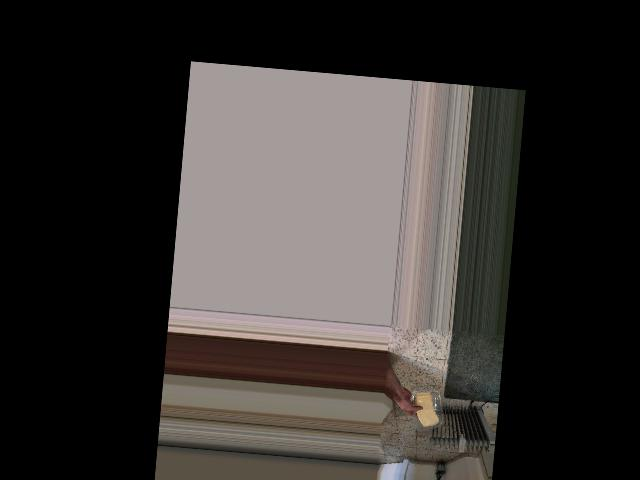cheese: (410, 388, 442, 431)
